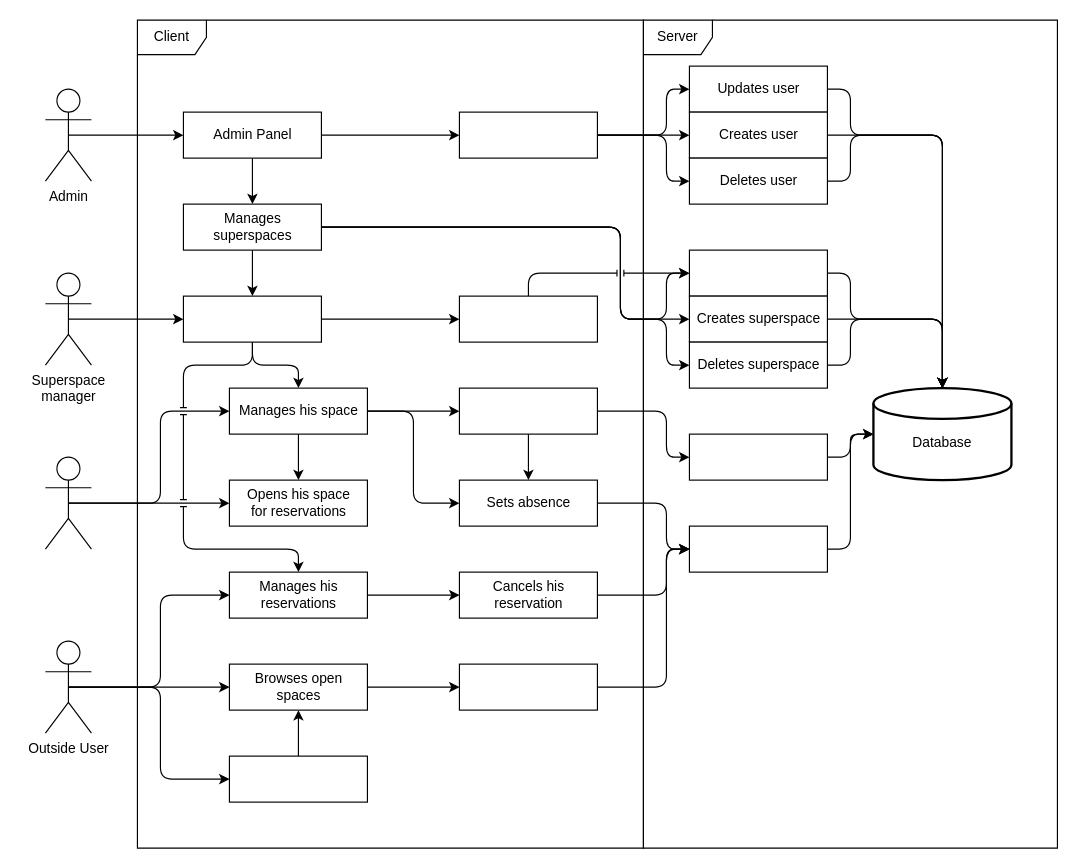
This 1078x868 diagram has some shape labels left out. The centre of each missing label's shape, as x and y in pixels:
"Creates automation routine" goes at (x=757, y=456).
"Edits superspace" goes at (x=527, y=318).
"Manages a superspace" goes at (x=251, y=318).
"Manages automation" goes at (x=527, y=410).
"Manages Users" goes at (x=527, y=134).
"Places a reservation" goes at (x=527, y=686).
"Searches for spaces within a timeframe" goes at (x=297, y=778).
"Space manager" goes at (x=67, y=502).
"Updates space state" goes at (x=757, y=548).
"Updates superspace" goes at (x=757, y=272).
